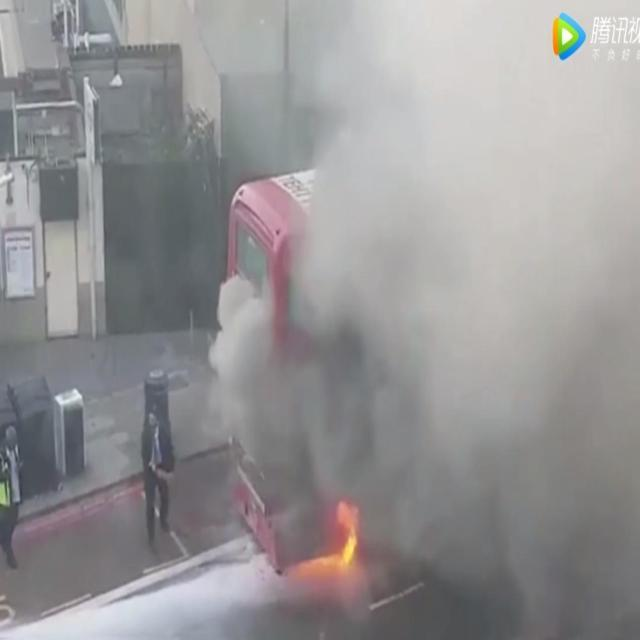Fire: (290, 499, 360, 572)
Smoke: (208, 0, 639, 640)
